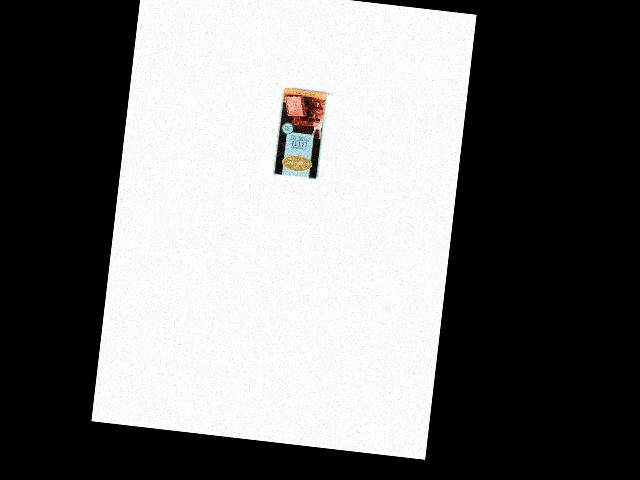chocolate: (271, 86, 329, 180)
